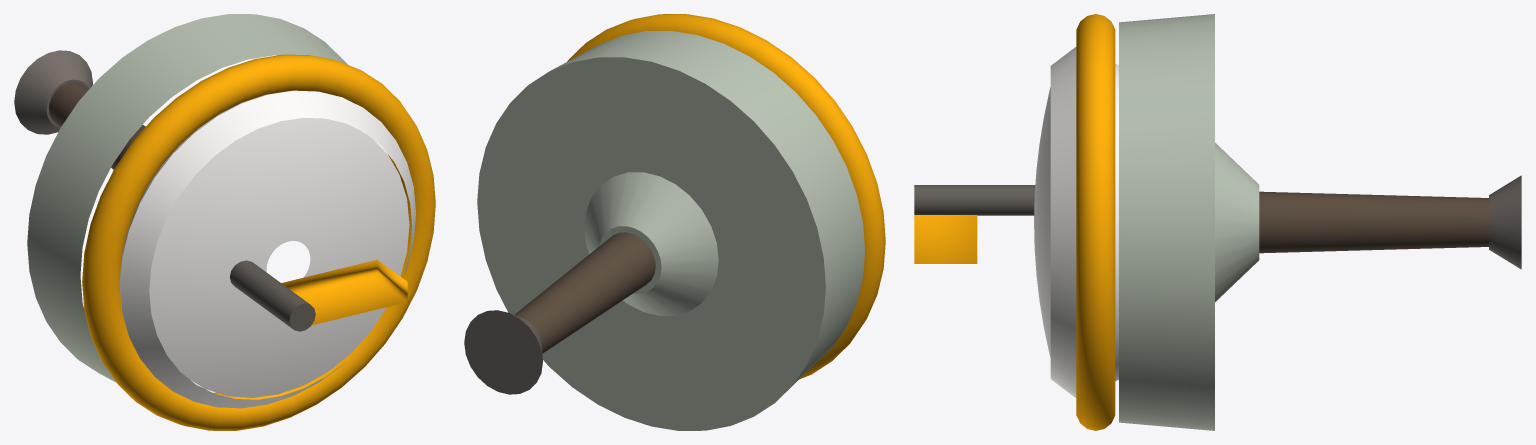
Rendered from pin-finish.glb.
3 views of the same model, side by side, from view 1: azimuth 30°, elevation 25°; view 2: azimuth 150°, elevation 25°; view 3: azimuth 270°, elevation 25° (orthographic). The views are drawn at different scales.
Parts seen in each view (by area): view 1: plate_dome, ring, head, plate_bevel, flag, foot, pole, stem, plate_wall; view 2: head, collar, ring, stem, foot; view 3: head, ring, stem, plate_bevel, collar, pole, plate_dome, flag, foot, plate_wall.
Part boxes in pixels (box(x1,y1,x2,y2)): plate_dome: box(149, 117, 409, 397); ring: box(82, 54, 435, 430); head: box(27, 14, 347, 382); plate_bevel: box(120, 90, 415, 408); flag: box(281, 259, 407, 325); foot: box(14, 50, 92, 134); pole: box(230, 260, 315, 331); stem: box(49, 82, 145, 169); plate_wall: box(119, 91, 290, 311); head: box(477, 31, 864, 430); collar: box(584, 172, 718, 315); ring: box(567, 14, 885, 378); stem: box(514, 232, 655, 353); foot: box(464, 310, 542, 394); head: box(1119, 14, 1214, 430); ring: box(1076, 14, 1115, 430); stem: box(1259, 191, 1488, 253); plate_bevel: box(1050, 47, 1076, 397); collar: box(1215, 142, 1259, 302); pole: box(914, 185, 1035, 215); plate_dome: box(1034, 87, 1050, 357); flag: box(914, 215, 977, 263); foot: box(1489, 175, 1521, 269); plate_wall: box(1115, 63, 1118, 381).
Size of the model in its own units: 0.796 by 0.796 by 1.16.
